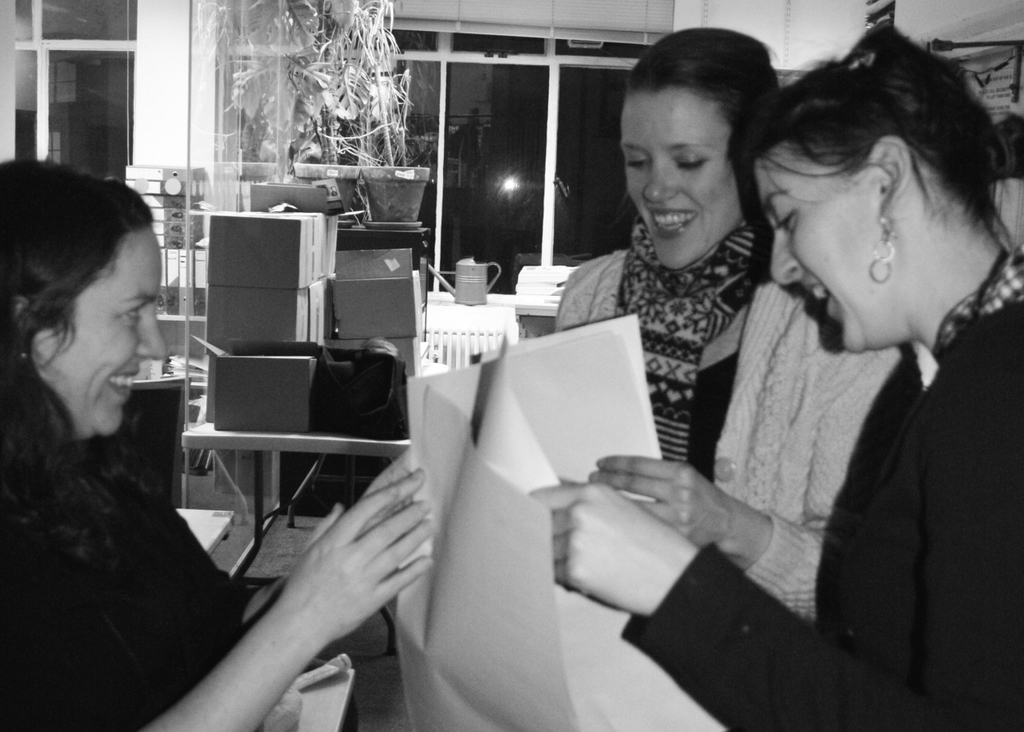Human_hand: (286, 466, 432, 636), (587, 450, 737, 547), (360, 447, 415, 526)
